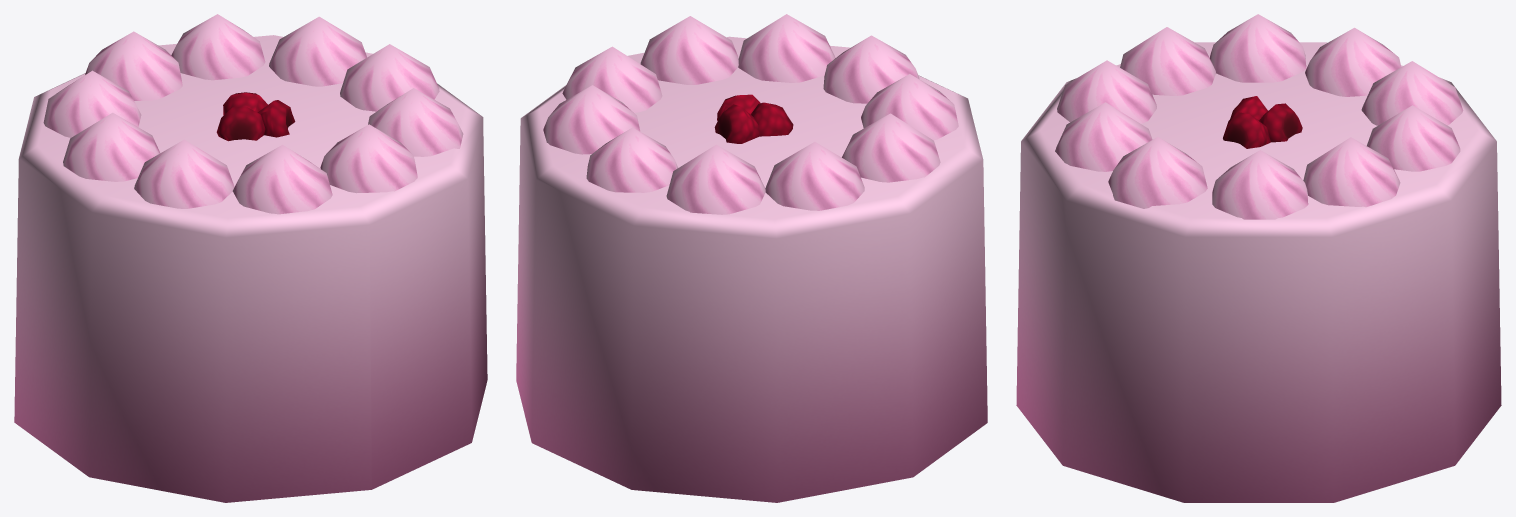
Rendered from Raspberry_Whole.fbx.
The picture shows the model from 3 angles, left to right: view 1: azimuth 30°, elevation 25°; view 2: azimuth 150°, elevation 25°; view 3: azimuth 270°, elevation 25°; orthographic projection.
Parts seen in each view (by area): view 1: Raspberry_Whole; view 2: Raspberry_Whole; view 3: Raspberry_Whole.
Part boxes in pixels (box(x1,y1,x2,y2)): Raspberry_Whole: box(14, 14, 487, 502); Raspberry_Whole: box(516, 14, 987, 502); Raspberry_Whole: box(1016, 14, 1501, 502).
Size of the model in its own units: 77.51 by 60.27 by 81.5.
